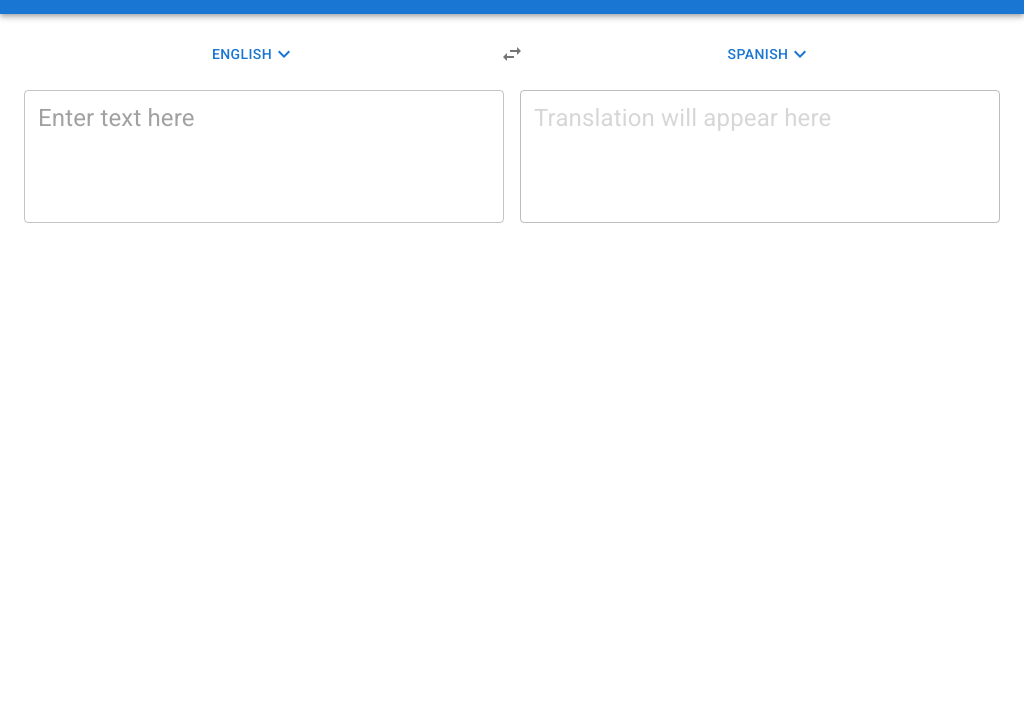
Scenario: App › selects French as source and translates French to Spanish
The width and height of the screenshot is (1024, 718).
Click the button "English" at point(254, 54), box [24,36,484,72]
(page scrolled)
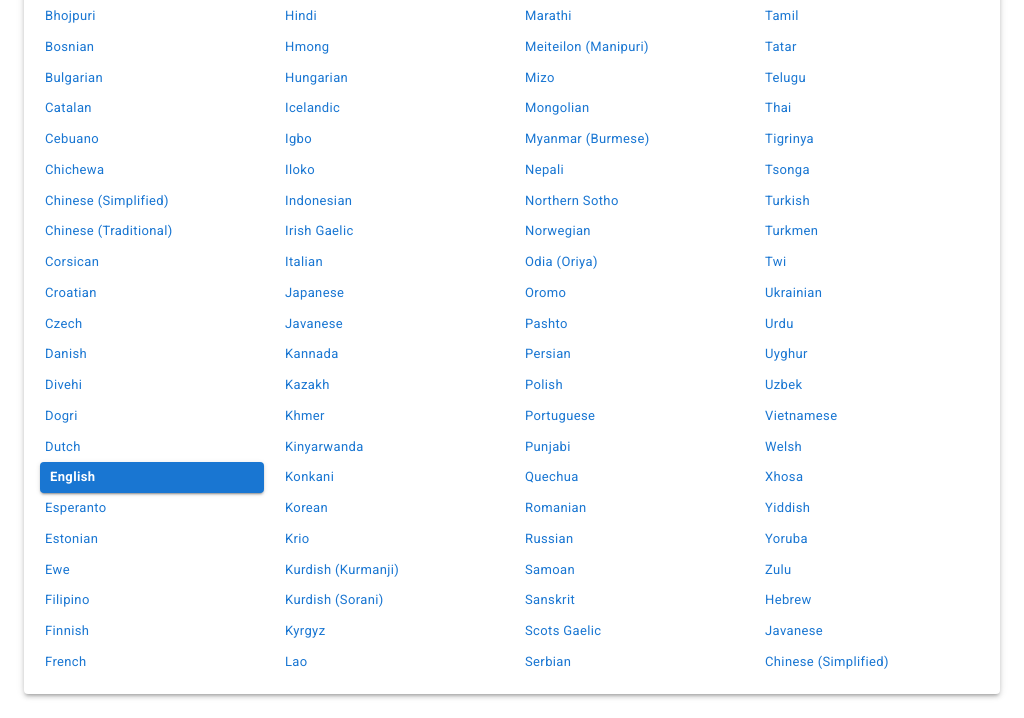
Click the button "French" at point(152, 662), box [40,647,264,678]
(page scrolled)
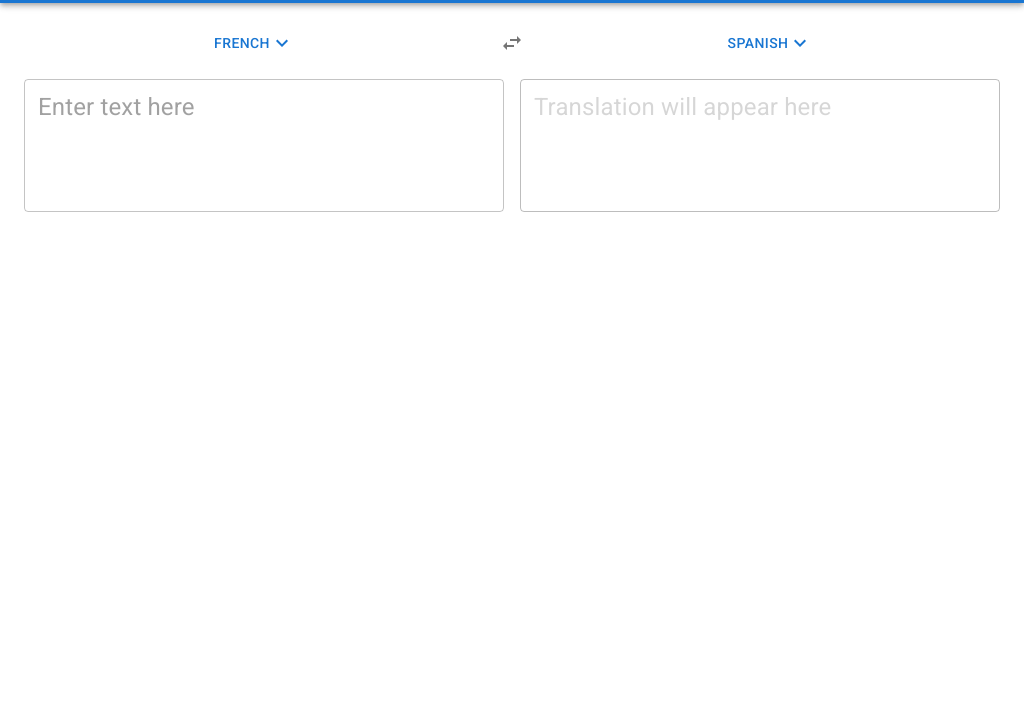
Type "bonjour le monde" into the text box with placeholder "Enter text here" at point(264, 146), box [38,96,490,196]
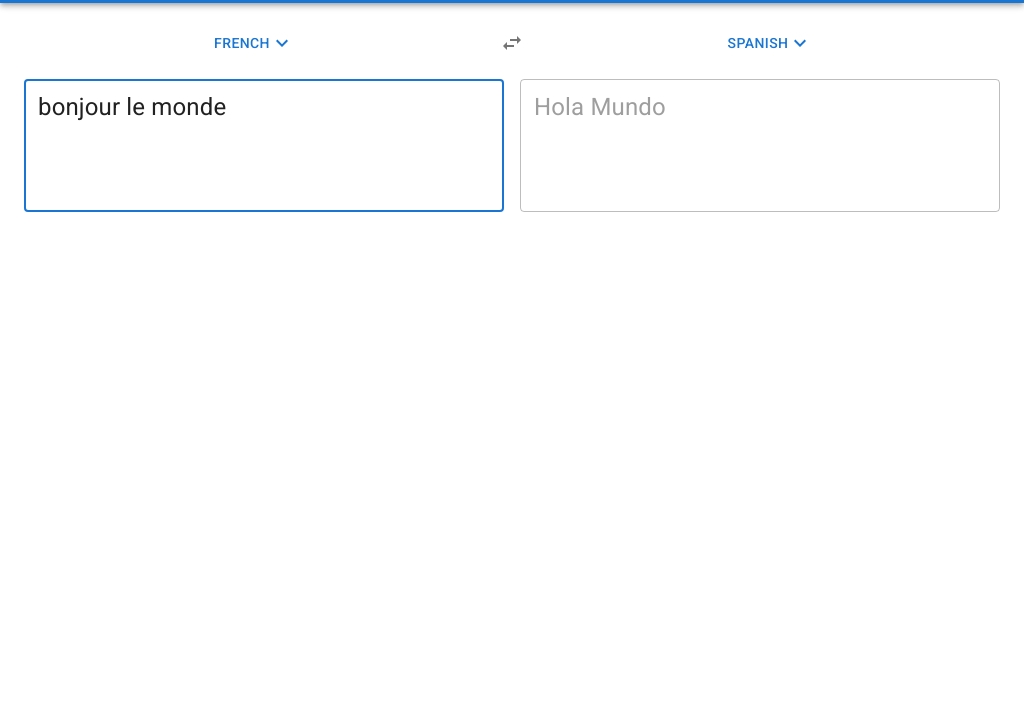
Now the 2nd text box showing "hola mundo" is shown, box [534,96,986,196]
